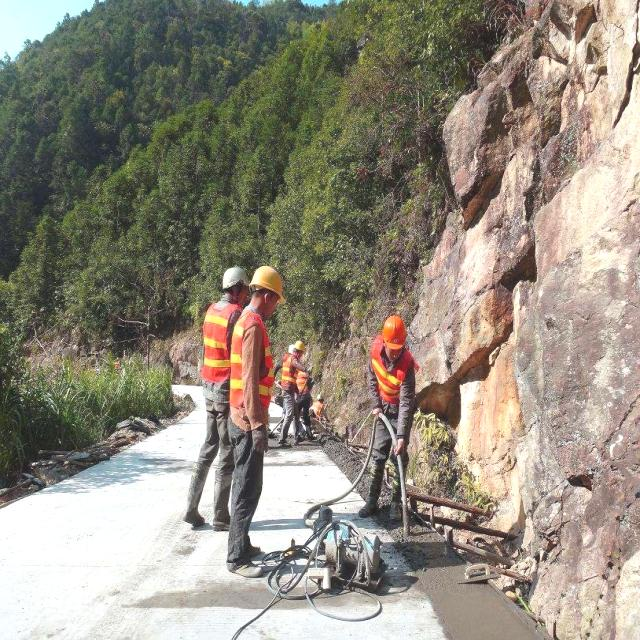face_nomask: (258, 290, 278, 320), (383, 342, 406, 361)
hand_glove: (247, 418, 270, 463)
hand_noglove: (390, 432, 408, 460), (369, 409, 384, 424)
head_helmet: (382, 315, 409, 347), (252, 263, 286, 287), (219, 268, 241, 288), (292, 340, 308, 352), (316, 392, 326, 402)
person: (230, 268, 286, 578), (180, 268, 238, 534), (364, 312, 415, 530), (275, 341, 309, 438), (306, 382, 331, 433)
shoes: (223, 550, 264, 582), (177, 498, 207, 538), (211, 495, 233, 534), (382, 492, 406, 523), (358, 493, 379, 521)
vest: (231, 317, 270, 419), (200, 307, 236, 381), (372, 365, 405, 405), (296, 375, 312, 391), (310, 403, 322, 418)
